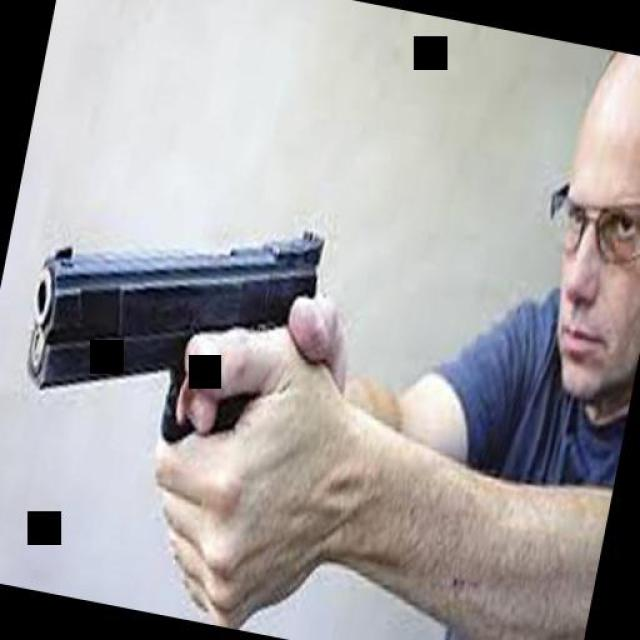gun: (10, 181, 336, 484)
